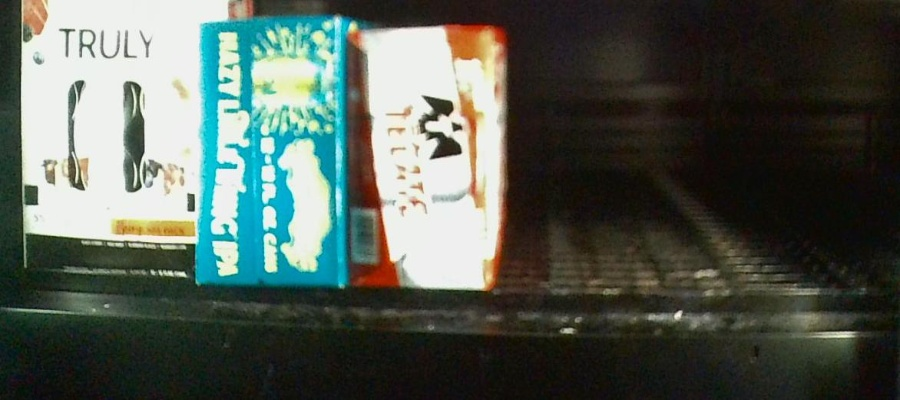bottle: (20, 1, 200, 279), (349, 22, 505, 291), (202, 18, 346, 288)
